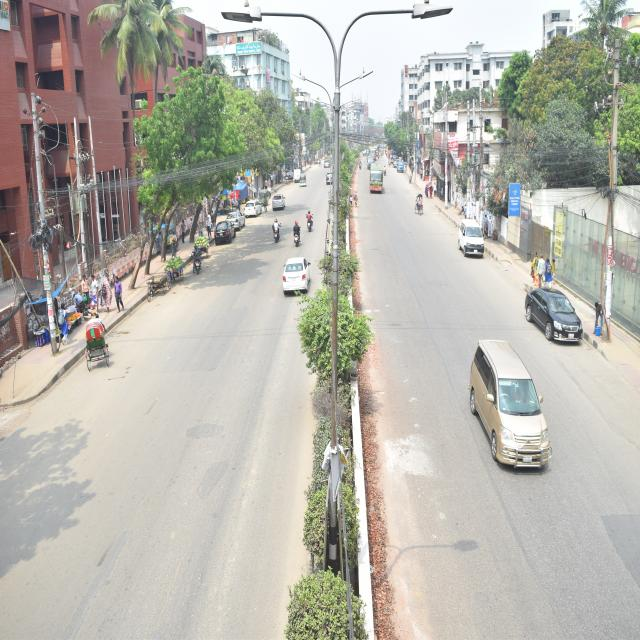bus: (368, 163, 386, 203)
car: (469, 324, 551, 493), (507, 270, 601, 366), (446, 205, 490, 275), (276, 248, 324, 296), (212, 218, 239, 256), (240, 196, 265, 221), (326, 164, 338, 193), (271, 192, 288, 212)
motorbike: (301, 205, 323, 247), (268, 223, 288, 255), (293, 217, 303, 250)
